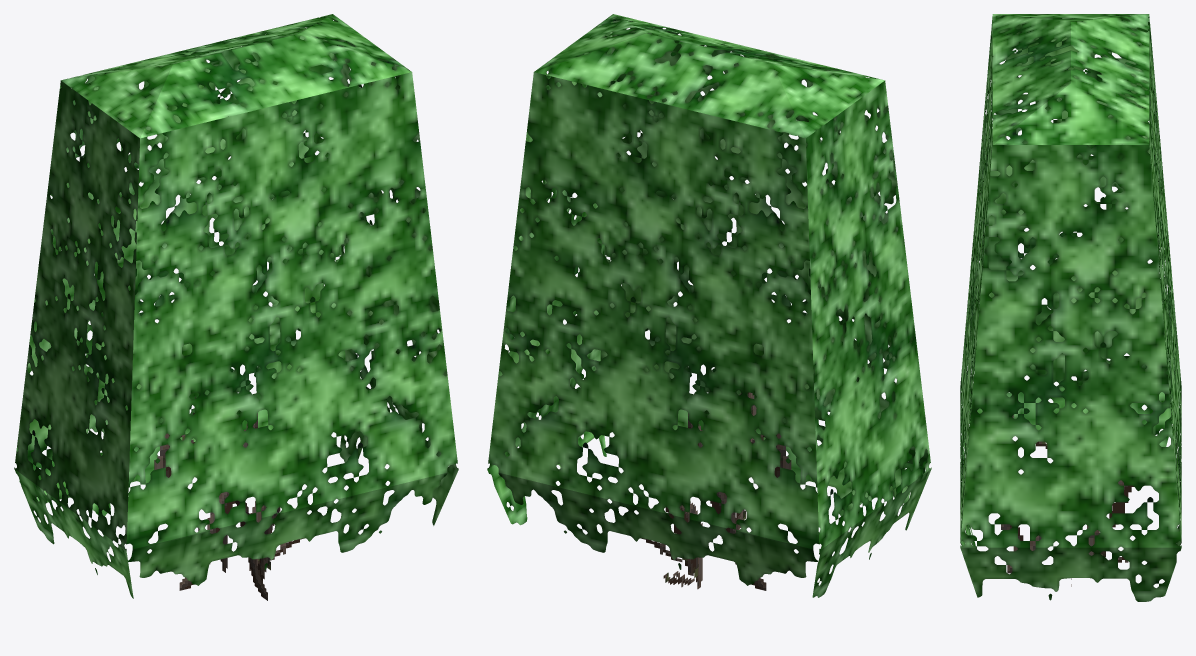
Rendered from bush_tall_half_single_roots_spring.fbx.
The picture shows the model from 3 angles, left to right: view 1: azimuth 30°, elevation 25°; view 2: azimuth 150°, elevation 25°; view 3: azimuth 270°, elevation 25°; orthographic projection.
Parts seen in each view (by area): view 1: bush_tall_half_single_roots_spring; view 2: bush_tall_half_single_roots_spring; view 3: bush_tall_half_single_roots_spring.
Boxes of the visible parts, bbox=[...] form: bush_tall_half_single_roots_spring: bbox=[14, 14, 458, 600]; bush_tall_half_single_roots_spring: bbox=[487, 14, 931, 597]; bush_tall_half_single_roots_spring: bbox=[960, 14, 1181, 601].
Bounding box in the file's own units: 123 × 188 × 71.91.
2 materials, 2 textured.
